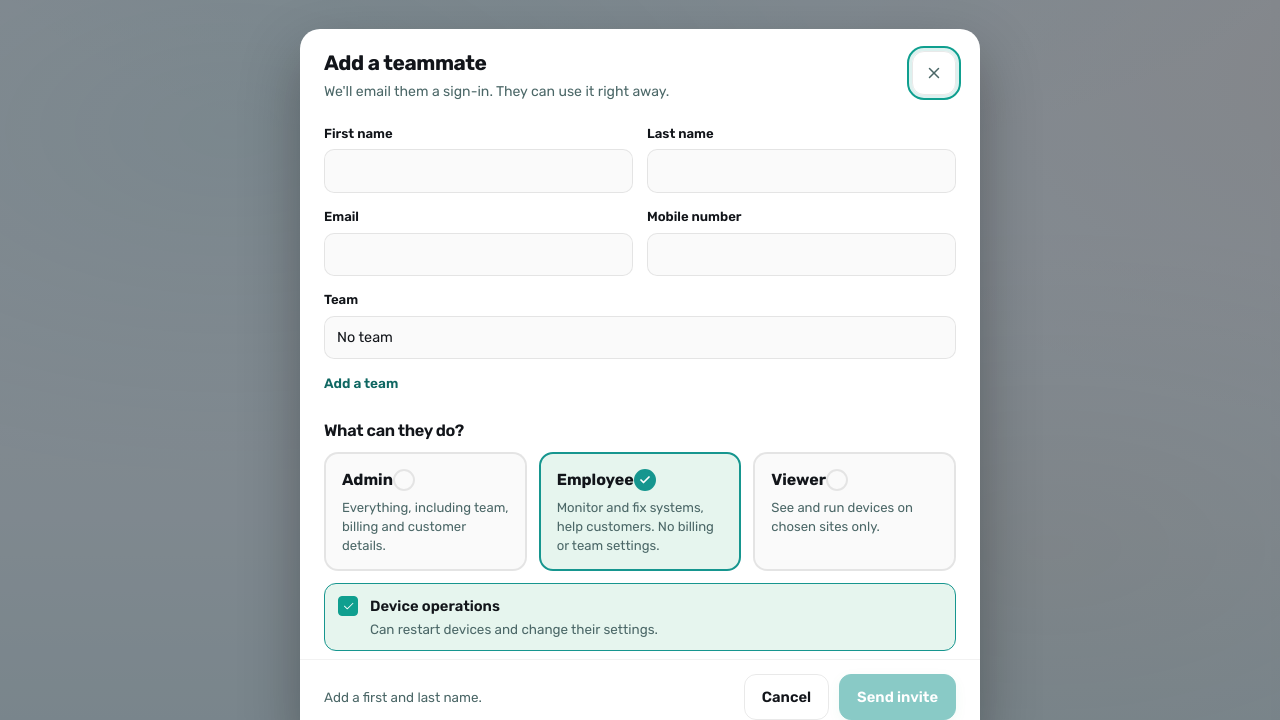
Test case: AddTeammateDialog › maps a duplicate-email failure to a plain sentence
Type "Meera" into the field labelled "First name" at (478, 171), box x1=324 y1=149 x2=633 y2=193
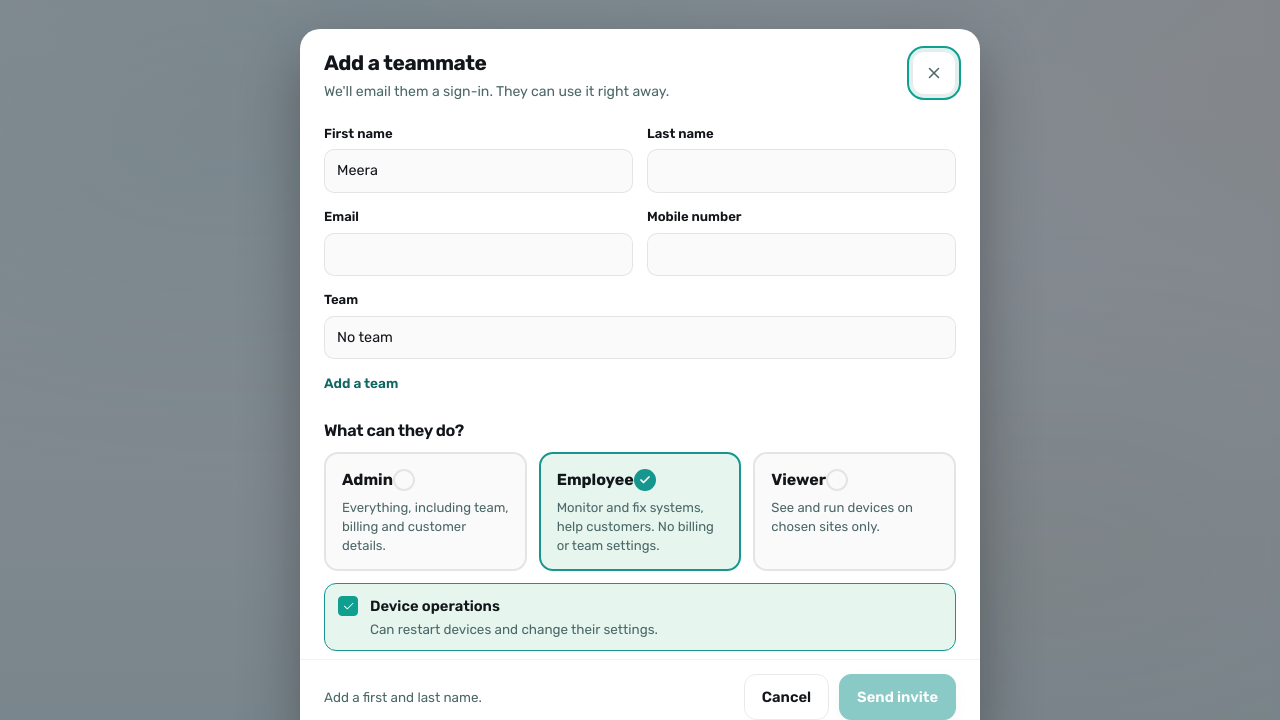
Type "Iyer" into the field labelled "Last name" at (802, 171), box x1=647 y1=149 x2=956 y2=193
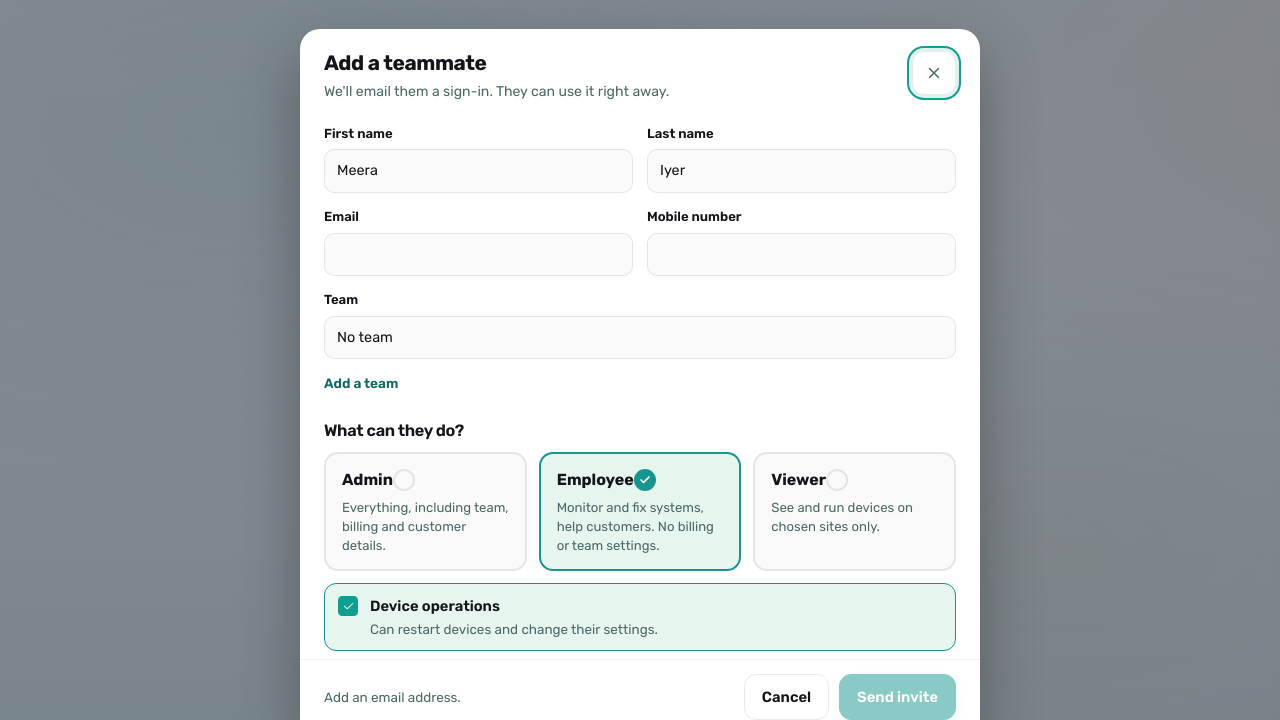
Type "Meera@Example.com" into the field labelled "Email" at (478, 254), box x1=324 y1=233 x2=633 y2=276
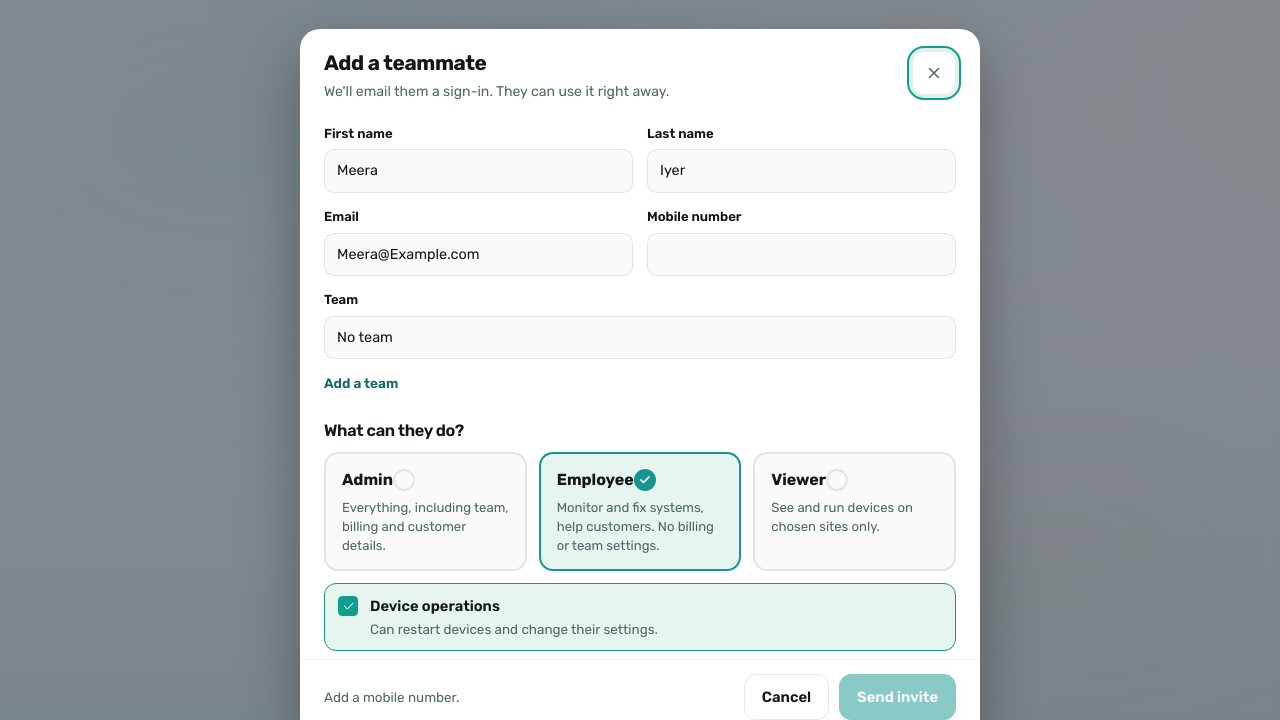
Type "+91 90000 00002" into the field labelled "Mobile number" at (802, 254), box x1=647 y1=233 x2=956 y2=276
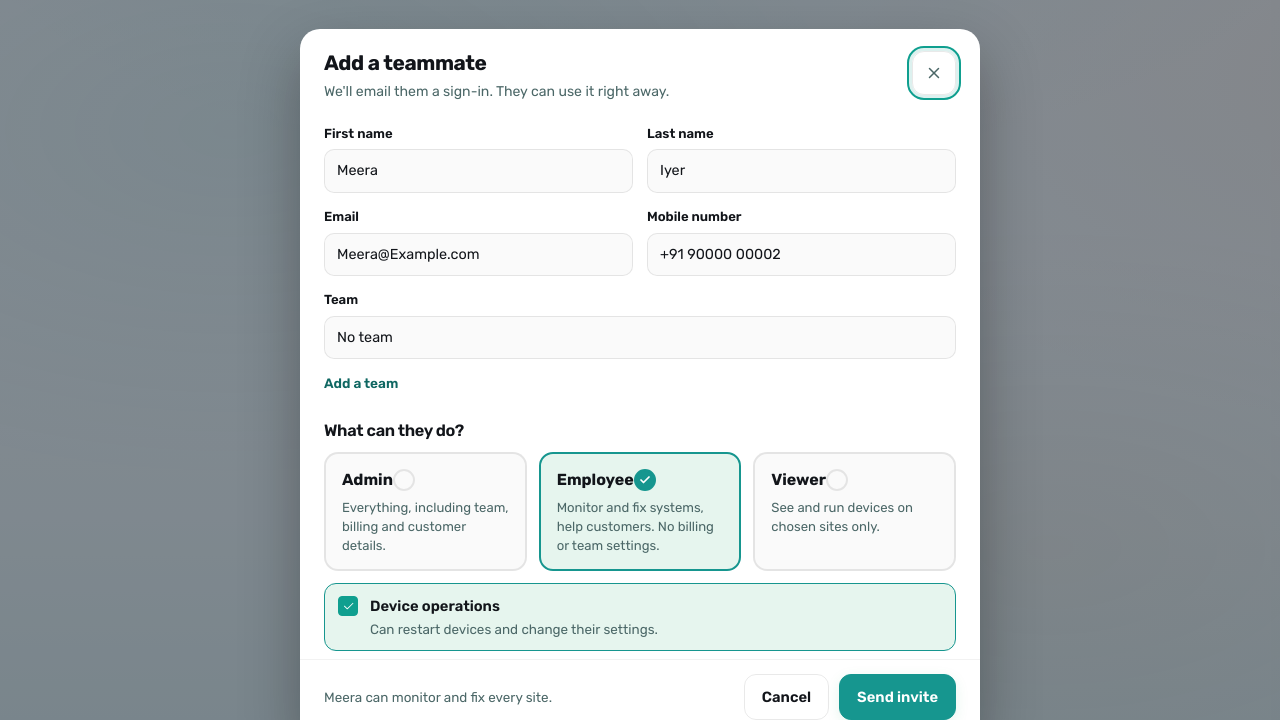
Click the button "Send invite" at (898, 697), box x1=839 y1=674 x2=956 y2=719
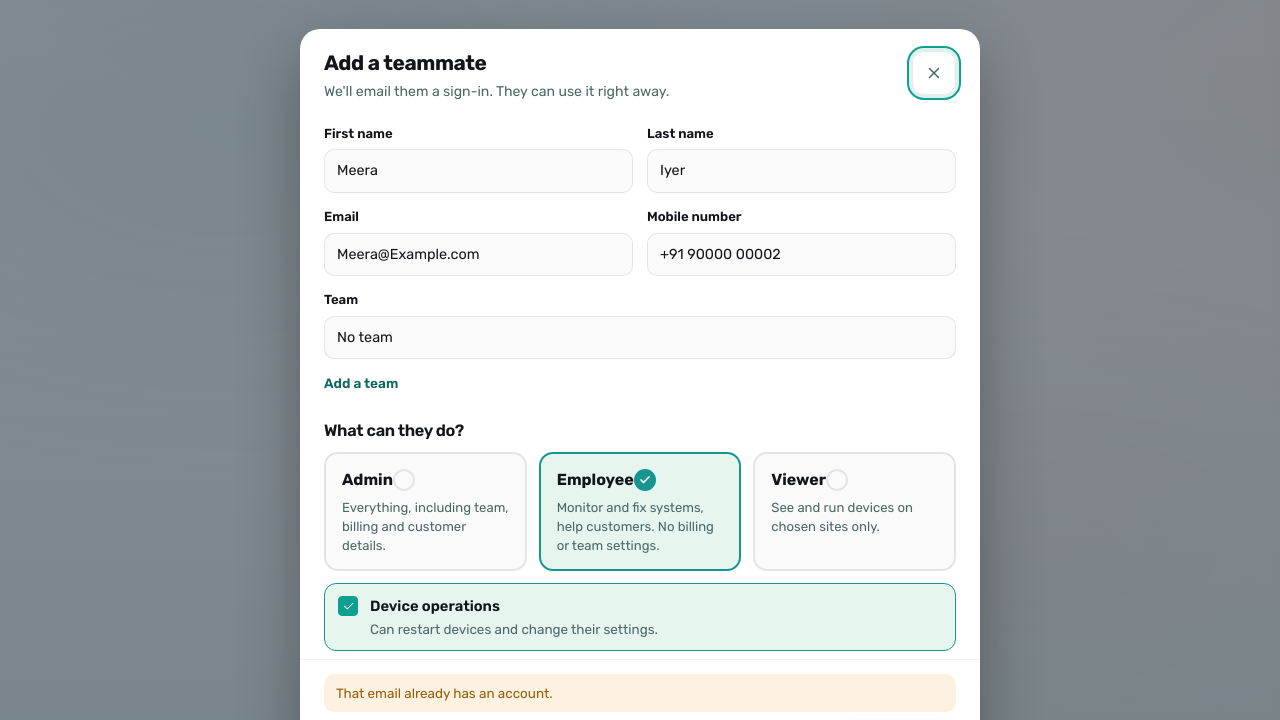
Check: the text "That email already has an account." is shown, box x1=324 y1=674 x2=956 y2=712
